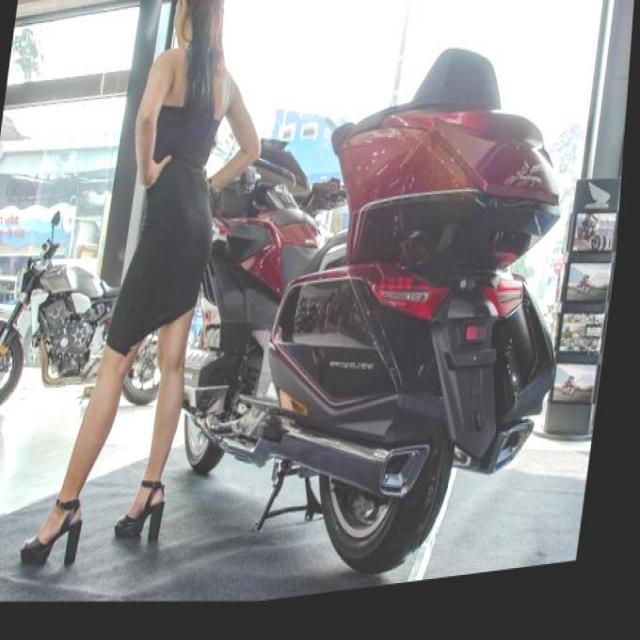Gold Wing: (162, 14, 603, 618)
